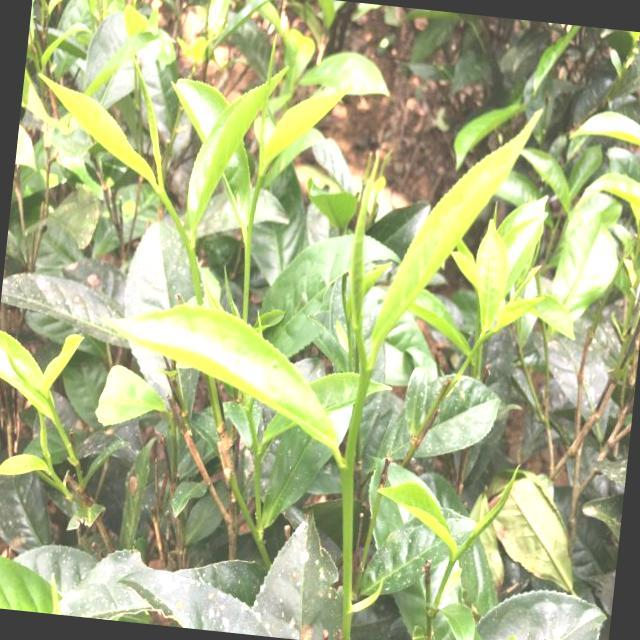Stem: (156, 188, 168, 201), (360, 370, 372, 383), (245, 237, 252, 251), (447, 560, 456, 568)
